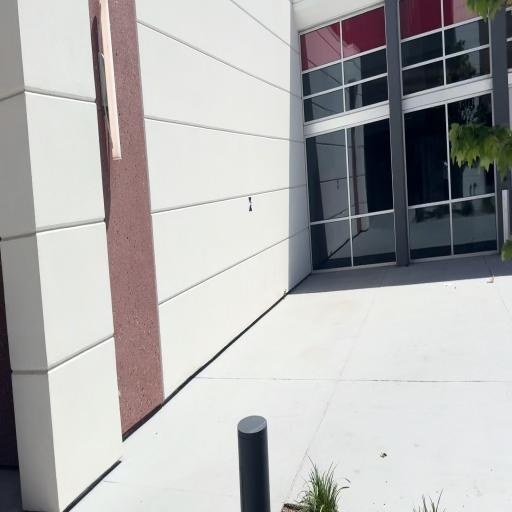target7: (248, 196, 253, 212)
